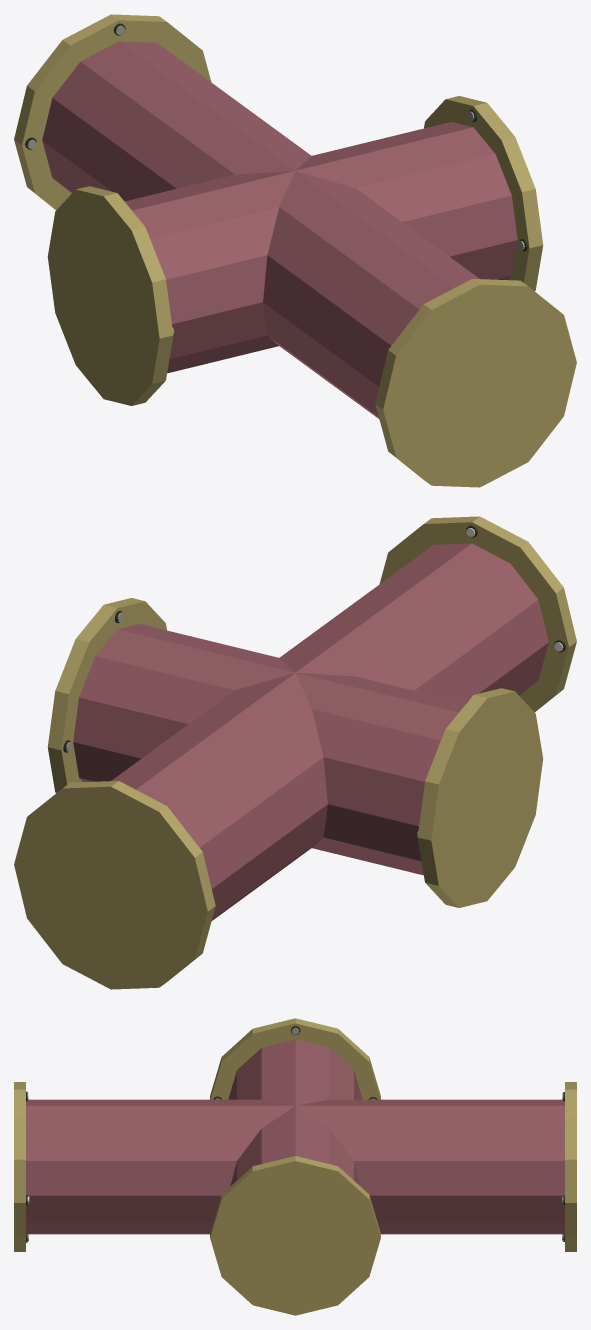
The model's file is Pipe_Four_Head.fbx.
The picture shows the model from 3 angles, top to bottom: view 1: azimuth 30°, elevation 25°; view 2: azimuth 150°, elevation 25°; view 3: azimuth 270°, elevation 25°; orthographic projection. The views are drawn at different scales.
Parts seen in each view (by area): view 1: Pipe_Four_Head, Cylinder.024, Cylinder.019, Cylinder.027, Cylinder.011; view 2: Pipe_Four_Head, Cylinder.027, Cylinder.019, Cylinder.024, Cylinder.011; view 3: Pipe_Four_Head, Cylinder.011, Cylinder.019, Cylinder.024, Cylinder.027.
Part boxes in pixels (<box>): Pipe_Four_Head: <box>42,41,517,418</box>; Cylinder.024: <box>375,279,576,487</box>; Cylinder.019: <box>47,186,173,405</box>; Cylinder.027: <box>14,14,211,210</box>; Cylinder.011: <box>424,96,543,291</box>; Pipe_Four_Head: <box>73,543,548,920</box>; Cylinder.027: <box>14,781,215,989</box>; Cylinder.019: <box>417,688,543,907</box>; Cylinder.024: <box>379,516,576,712</box>; Cylinder.011: <box>47,598,166,793</box>; Pipe_Four_Head: <box>26,1039,564,1234</box>; Cylinder.011: <box>210,1156,380,1315</box>; Cylinder.019: <box>210,1018,380,1099</box>; Cylinder.024: <box>14,1082,27,1251</box>; Cylinder.027: <box>563,1082,576,1251</box>.
Bounding box in the file's own units: 30 × 15.16 × 50.
